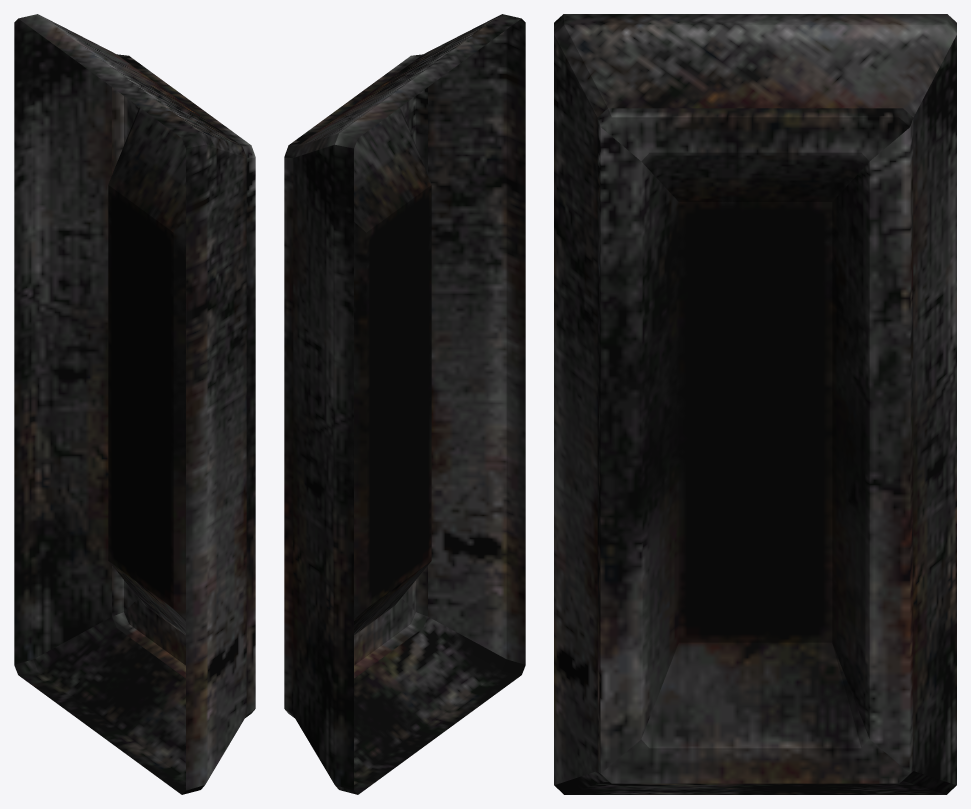
Rendered from lever_small_mount.dae.
3 renders of one model, left to right at view 1: azimuth 30°, elevation 25°; view 2: azimuth 150°, elevation 25°; view 3: azimuth 270°, elevation 25°, orthographic. The views are drawn at different scales.
Visible parts, largest first — view 1: lever_small01_box_mes; view 2: lever_small01_box_mes; view 3: lever_small01_box_mes.
Boxes of the visible parts, box(x1,y1,x2,y2) form: lever_small01_box_mes: box(14, 14, 255, 794); lever_small01_box_mes: box(284, 14, 525, 794); lever_small01_box_mes: box(554, 14, 956, 794).
Size of the model in its own units: 0.0617 by 0.2033 by 0.4289.
1 material, 1 textured.
